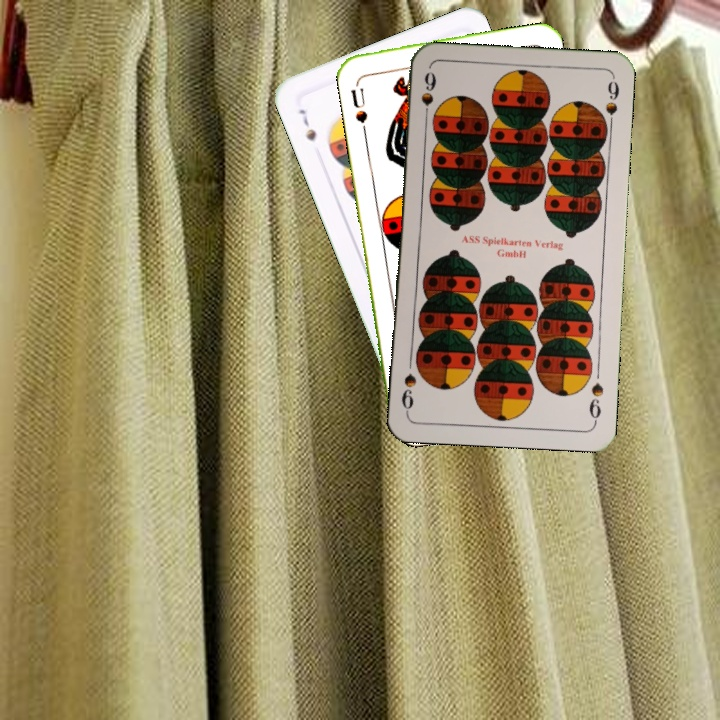S7: (294, 105, 319, 144)
S9: (417, 67, 439, 126), (585, 378, 606, 425)
SU: (347, 84, 370, 126)
